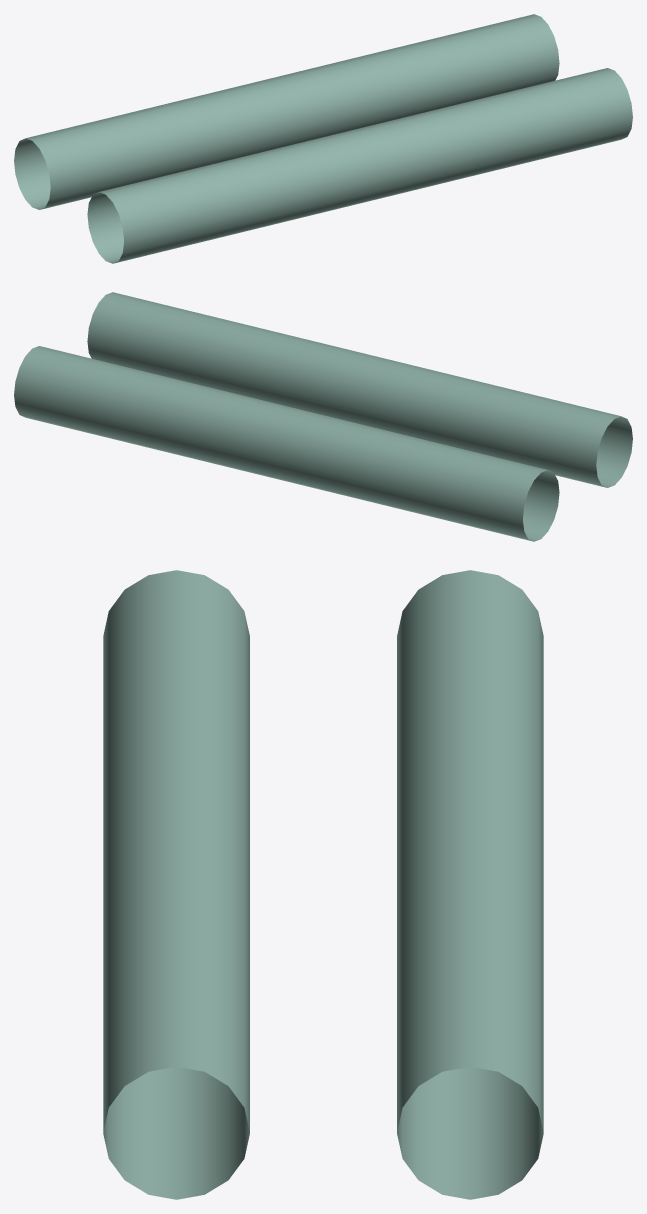
The model's file is PipeComplexLarge_A2_08.fbx.
3 views of the same model, one above another, from view 1: azimuth 30°, elevation 25°; view 2: azimuth 150°, elevation 25°; view 3: azimuth 270°, elevation 25° (orthographic). The views are drawn at different scales.
Parts seen in each view (by area): view 1: PipeComplexLarge_A2_08.001; view 2: PipeComplexLarge_A2_08.001; view 3: PipeComplexLarge_A2_08.001.
Part boxes in pixels (x1,y1,x2,y2): PipeComplexLarge_A2_08.001: (14, 14, 632, 263); PipeComplexLarge_A2_08.001: (14, 292, 632, 541); PipeComplexLarge_A2_08.001: (103, 570, 543, 1199).
Size of the model in its own units: 1.6 by 0.2 by 0.6.
